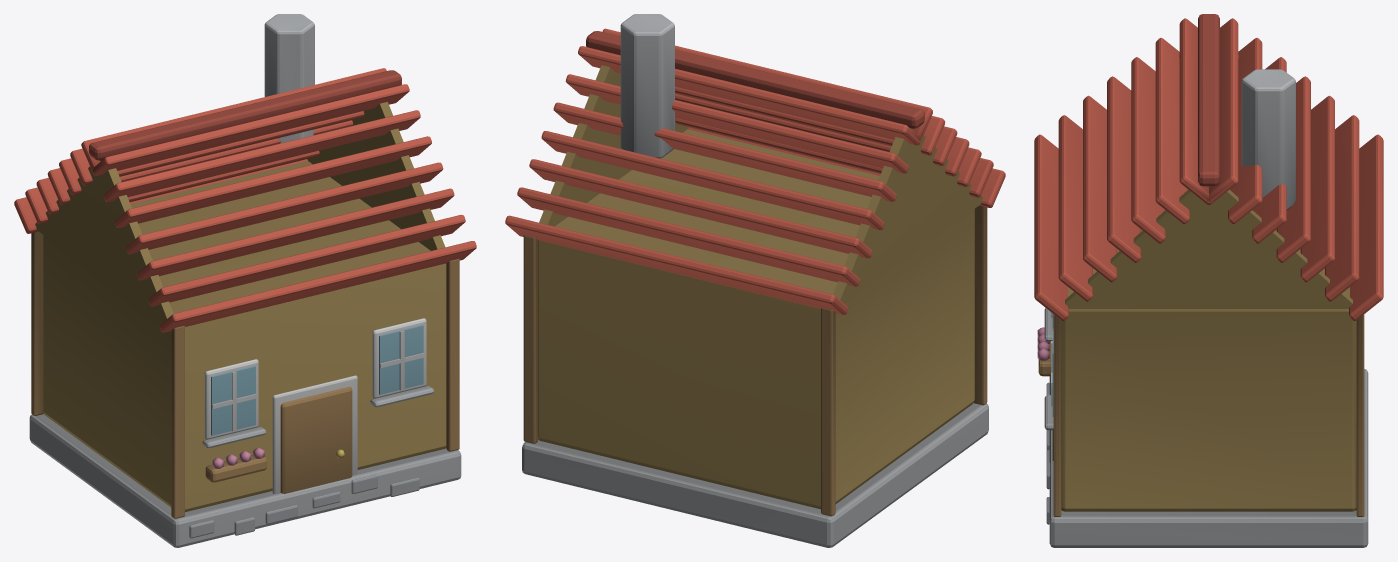
Rendered from atelier0.glb.
3 renders of one model, left to right at view 1: azimuth 30°, elevation 25°; view 2: azimuth 150°, elevation 25°; view 3: azimuth 270°, elevation 25°, orthographic. The views are drawn at different scales.
Visible parts, largest first — view 1: murs__wall, socle__stone, pignon__wall, porte__wood, faitage__roof2, tuile__roof.001, tuile__roof.002, tuile__roof.003, tuile__roof.004, tuile__roof.005, tuile__roof.006, tuile__roof (+18 smaller); view 2: murs__wall, socle__stone, pignon__wall, cheminee__stone, tuile__roof.008, tuile__roof.009, tuile__roof.010, tuile__roof.007, faitage__roof2, tuile__roof.011, tuile__roof.012, tuile__roof.013 (+9 smaller); view 3: murs__wall, pignon__wall.001, socle__stone, cheminee__stone, tuile__roof, tuile__roof.007, tuile__roof.001, tuile__roof.008, tuile__roof.003, tuile__roof.004, tuile__roof.005, tuile__roof.002 (+9 smaller).
Boxes of the visible parts, left/top/right/bottom form: murs__wall: left=42, top=161, right=446, bottom=512; socle__stone: left=29, top=414, right=461, bottom=547; pignon__wall: left=35, top=160, right=173, bottom=322; porte__wood: left=280, top=387, right=352, bottom=493; faitage__roof2: left=89, top=70, right=401, bottom=160; tuile__roof.001: left=148, top=215, right=465, bottom=306; tuile__roof.002: left=137, top=188, right=454, bottom=280; tuile__roof.003: left=126, top=162, right=443, bottom=254; tuile__roof.004: left=115, top=136, right=431, bottom=227; tuile__roof.005: left=103, top=110, right=420, bottom=201; tuile__roof.006: left=92, top=84, right=409, bottom=175; tuile__roof: left=160, top=241, right=476, bottom=332; murs__wall: left=538, top=129, right=974, bottom=509; socle__stone: left=522, top=403, right=988, bottom=547; pignon__wall: left=833, top=128, right=982, bottom=303; cheminee__stone: left=620, top=14, right=674, bottom=158; tuile__roof.008: left=517, top=187, right=860, bottom=286; tuile__roof.009: left=529, top=159, right=872, bottom=258; tuile__roof.010: left=541, top=131, right=884, bottom=230; tuile__roof.007: left=505, top=215, right=848, bottom=314; faitage__roof2: left=586, top=31, right=924, bottom=128; tuile__roof.011: left=553, top=102, right=896, bottom=201; tuile__roof.012: left=565, top=74, right=908, bottom=173; tuile__roof.013: left=578, top=46, right=920, bottom=145; murs__wall: left=1061, top=229, right=1356, bottom=511; pignon__wall.001: left=1065, top=186, right=1352, bottom=308; socle__stone: left=1049, top=369, right=1368, bottom=547; cheminee__stone: left=1241, top=69, right=1295, bottom=210; tuile__roof: left=1034, top=134, right=1068, bottom=320; tuile__roof.007: left=1349, top=134, right=1383, bottom=320; tuile__roof.001: left=1058, top=115, right=1092, bottom=301; tuile__roof.008: left=1325, top=115, right=1359, bottom=301; tuile__roof.003: left=1107, top=76, right=1141, bottom=262; tuile__roof.004: left=1131, top=57, right=1165, bottom=243; tuile__roof.005: left=1155, top=38, right=1189, bottom=224; tuile__roof.002: left=1083, top=95, right=1117, bottom=282.
Bounding box in the file's own units: 3.84 × 4.8 × 3.5.
